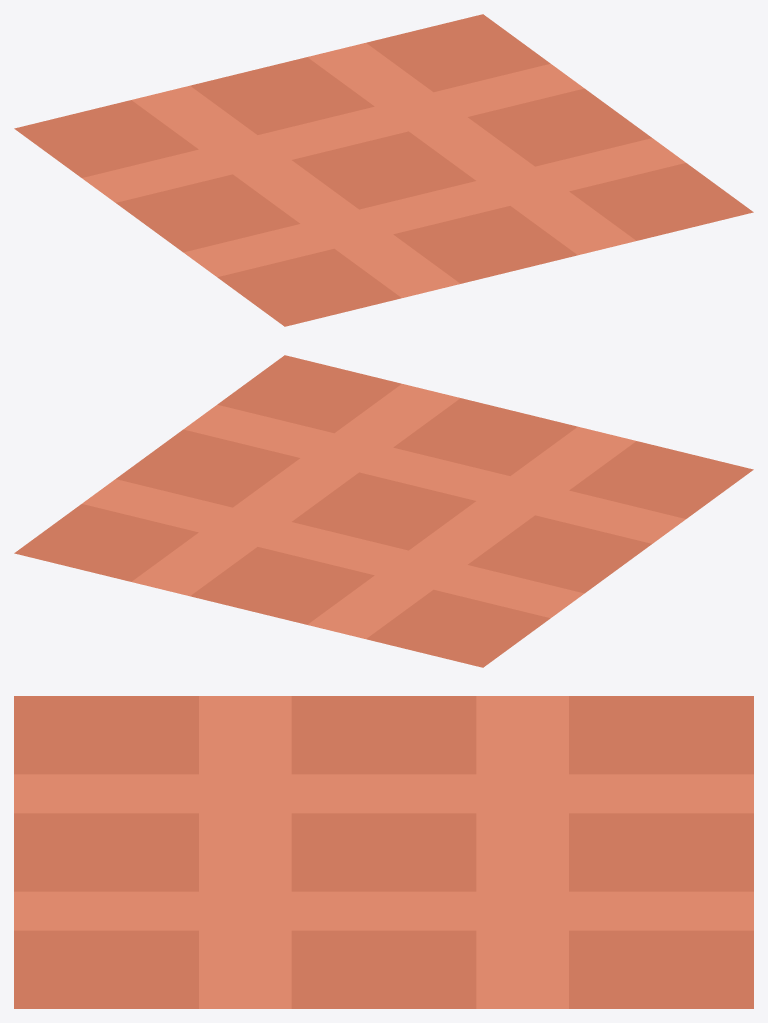
The model's file is terrain_roadCross.glb.
The picture shows the model from 3 angles, top to bottom: view 1: azimuth 30°, elevation 25°; view 2: azimuth 150°, elevation 25°; view 3: azimuth 270°, elevation 25°; orthographic projection. The views are drawn at different scales.
Parts seen in each view (by area): view 1: terrain_roadCross; view 2: terrain_roadCross; view 3: terrain_roadCross.
Part boxes in pixels (box(x1,y1,x2,y2)): terrain_roadCross: box(14, 14, 753, 326); terrain_roadCross: box(14, 355, 753, 667); terrain_roadCross: box(14, 696, 753, 1008).
Size of the model in its own units: 1 by 0 by 1.
